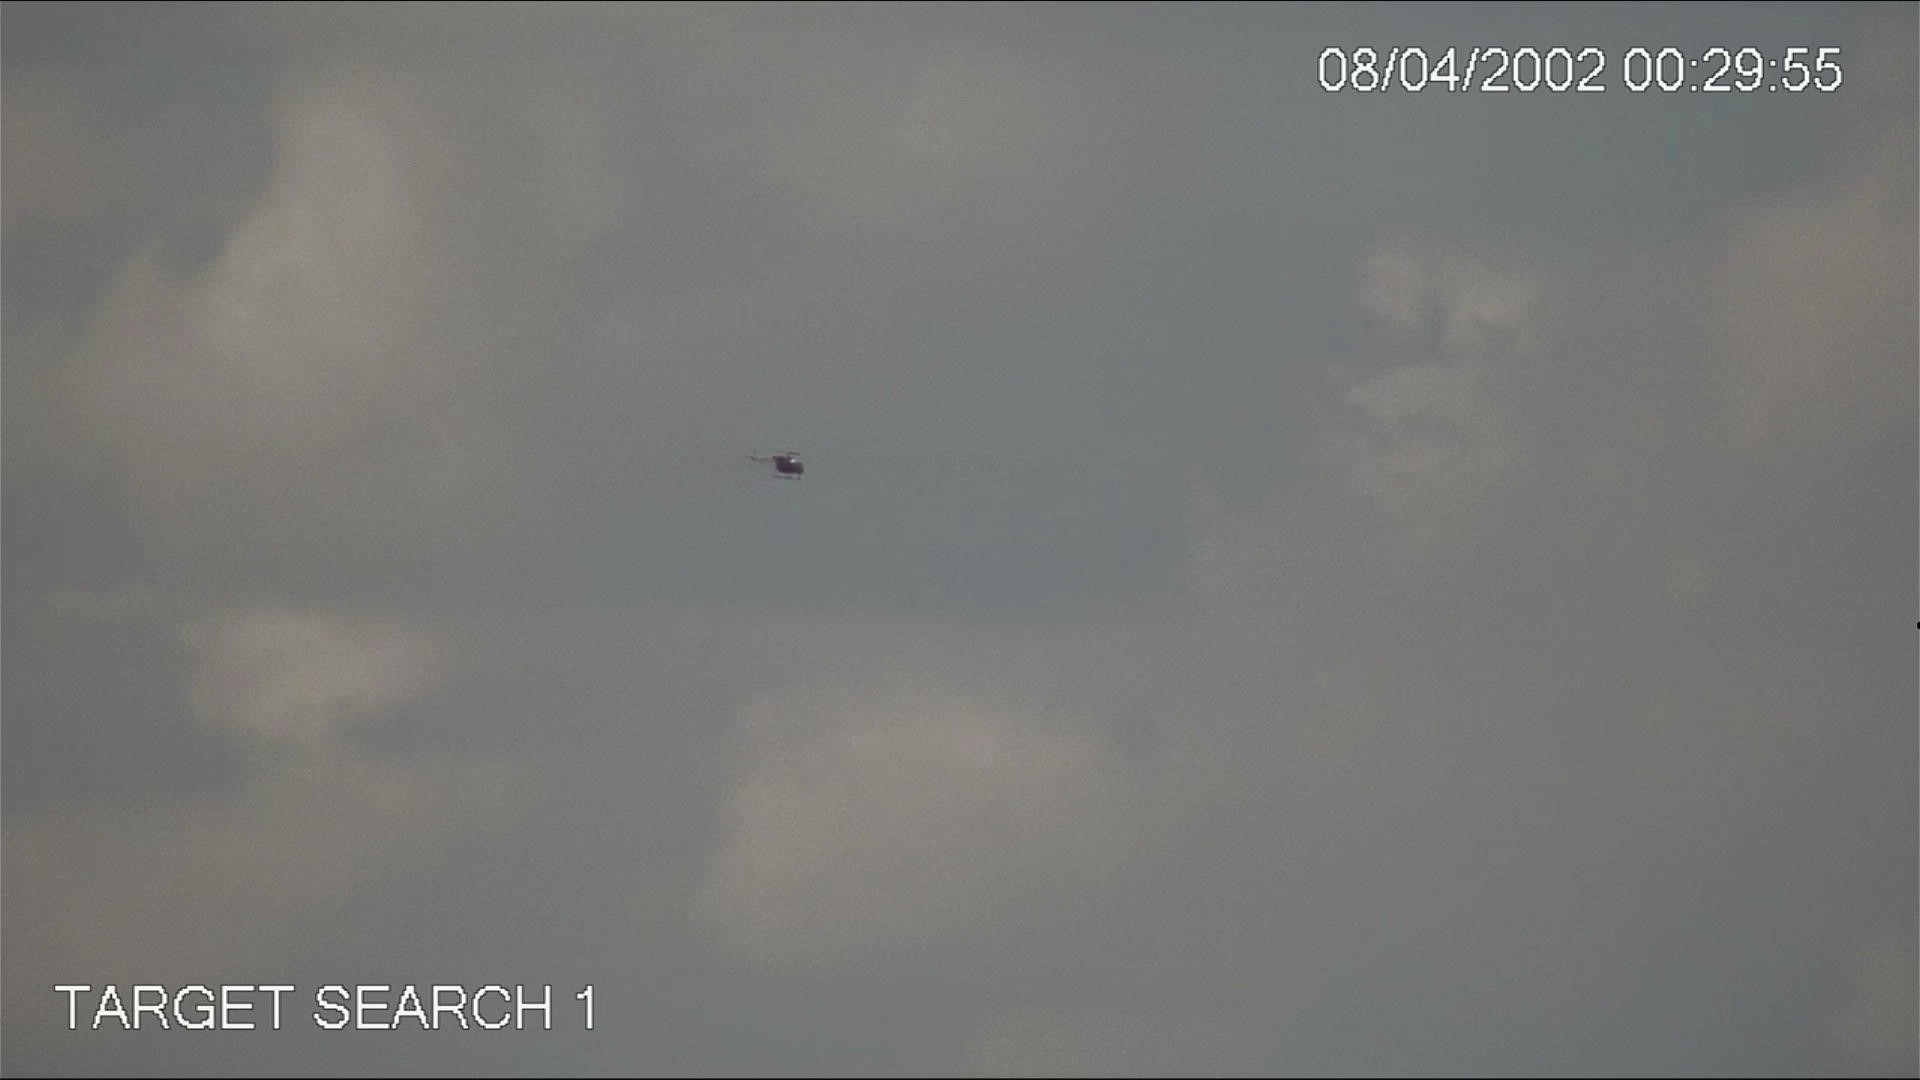SU_30: (742, 446, 814, 485)
